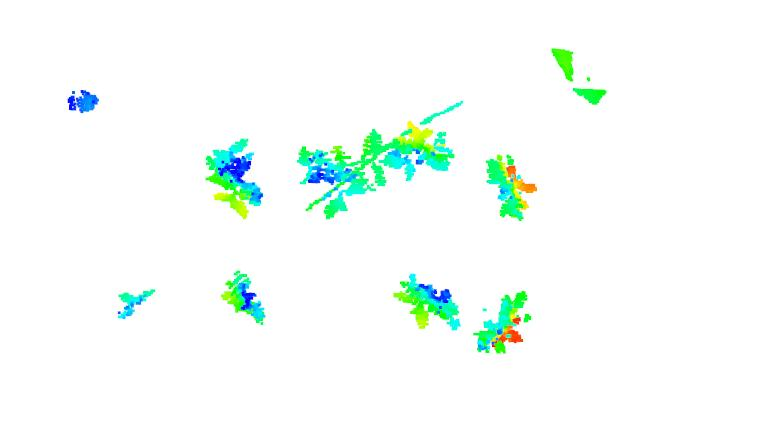chickpea: (299, 132, 387, 219), (387, 114, 456, 183), (394, 275, 467, 335), (209, 139, 263, 217), (472, 290, 536, 354), (485, 150, 538, 225), (225, 268, 275, 329), (114, 282, 161, 322)
